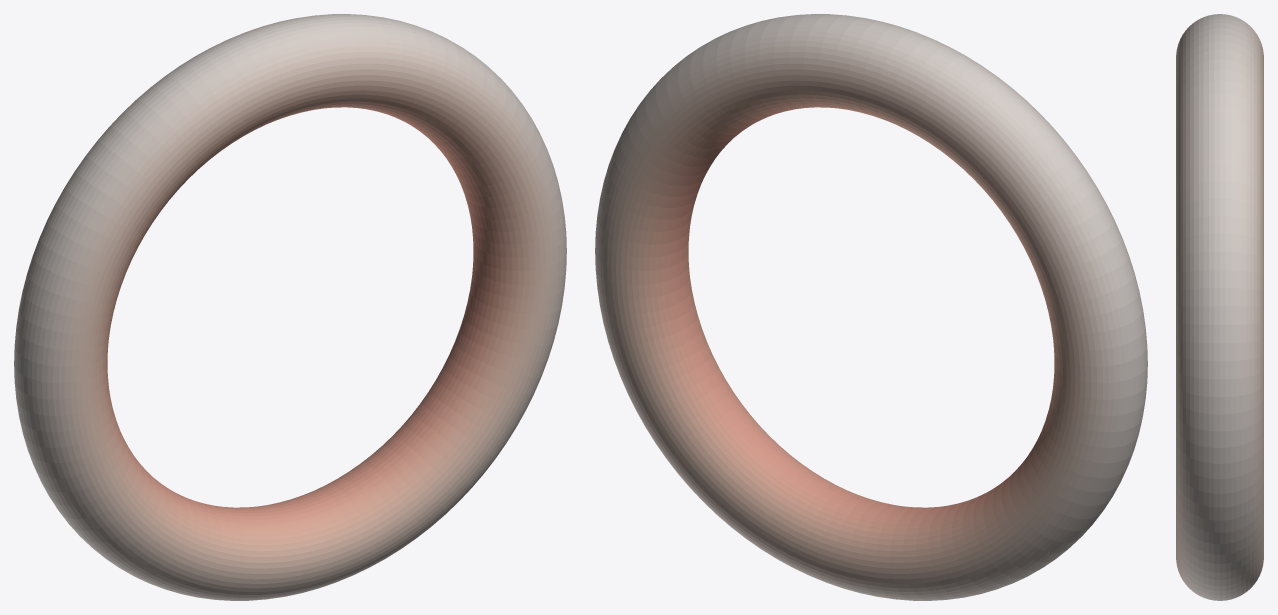
The picture shows the model from 3 angles, left to right: view 1: azimuth 30°, elevation 25°; view 2: azimuth 150°, elevation 25°; view 3: azimuth 270°, elevation 25°; orthographic projection. The views are drawn at different scales.
Visible parts, largest first — view 1: world; view 2: world; view 3: world.
Part boxes in pixels (box(x1,y1,x2,y2)): world: box(14, 14, 566, 600); world: box(595, 14, 1147, 600); world: box(1176, 14, 1263, 600).
Size of the model in its own units: 32.93 by 32.93 by 4.92.
